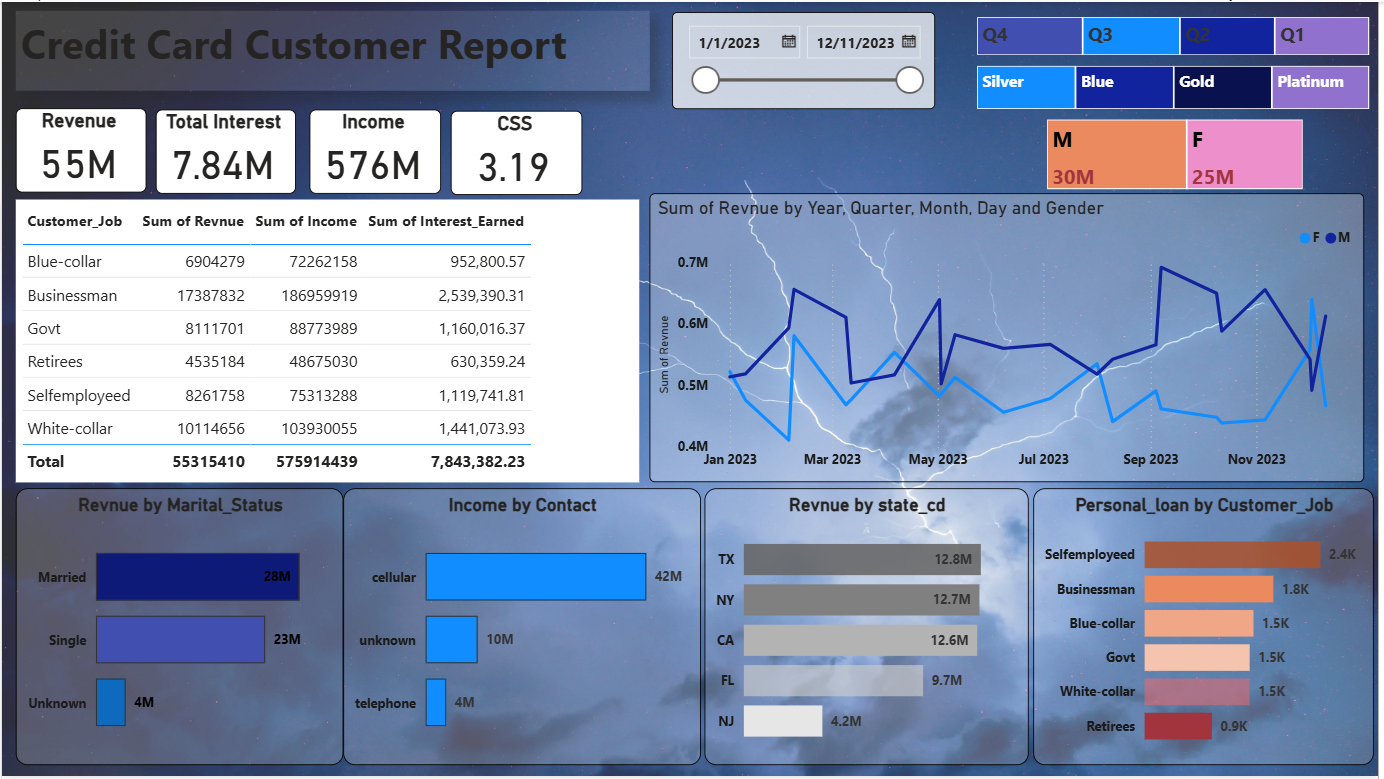

The dashboard page shown, as its layout file describes it:
{"tool":"powerbi","page":{"name":"Customer","canvas":[1280,720],"ordinal":1},"visuals":[{"type":"textbox","box":[12.8,8.1,589.5,74.4],"z":0},{"type":"slicer","fields":{"Values":["credit_card.Week_Start_Date"]},"box":[623.8,8.8,245,90],"z":1000},{"type":"treemap","fields":{"Group":["credit_card.Qtr"],"Values":["Avg(credit_card.Client_Num)"]},"box":[902.3,9.3,374.4,45.3],"z":3000},{"type":"treemap","fields":{"Group":["credit_card.Card_Category"],"Values":["Avg(credit_card.Client_Num)"]},"box":[902.3,54.7,374.4,50],"z":4000},{"type":"card","title":"Revenue","fields":{"Values":["Sum(credit_card.Revnue)"]},"box":[12.5,98.8,121.2,78.8],"z":5000},{"type":"card","title":"Total Interest","fields":{"Values":["Sum(credit_card.Interest_Earned)"]},"box":[142.5,100,130,78.8],"z":6000},{"type":"card","title":"Income","fields":{"Values":["Sum(customer.Income)"]},"box":[286.2,100,122.5,78.8],"z":7000},{"type":"card","title":"CSS","fields":{"Values":["Avg(customer.Cust_Satisfaction_Score)"]},"box":[417.5,101.2,122.5,78.8],"z":8000},{"type":"tableEx","fields":{"Values":["customer.Customer_Job","Sum(credit_card.Revnue)","Sum(customer.Income)","Sum(credit_card.Interest_Earned)"]},"box":[12.5,183.8,580,263],"z":9000},{"type":"clusteredBarChart","title":" Revnue by Marital_Status","fields":{"Y":["Sum(credit_card.Revnue)"],"Category":["customer.Marital_Status"]},"box":[12.5,452,305,257.5],"z":10000},{"type":"lineChart","fields":{"Y":["Sum(credit_card.Revnue)"],"Category":["credit_card.Week_Start_Date.Variation.Date Hierarchy.Year","credit_card.Week_Start_Date.Variation.Date Hierarchy.Quarter","credit_card.Week_Start_Date.Variation.Date Hierarchy.Month","credit_card.Week_Start_Date.Variation.Date Hierarchy.Day"],"Series":["customer.Gender"]},"box":[602.5,177.5,665,268.8],"z":11000},{"type":"clusteredBarChart","title":"Income by Contact","fields":{"Category":["customer.contact"],"Y":["Sum(credit_card.Revnue)"]},"box":[317.5,452.5,332.5,257.5],"z":12000},{"type":"treemap","fields":{"Group":["customer.Gender"],"Values":["Sum(credit_card.Revnue)"]},"box":[967.4,104.7,247.7,74.4],"z":13000},{"type":"clusteredBarChart","title":"Revnue by state_cd","fields":{"Y":["Sum(credit_card.Revnue)"],"Category":["customer.state_cd"]},"box":[653.8,452.5,301.2,257.5],"z":14000},{"type":"clusteredBarChart","title":" Personal_loan by Customer_Job","fields":{"Y":["CountNonNull(customer.Personal_loan)"],"Category":["customer.Customer_Job"]},"box":[959,452.5,317,257.5],"z":15000}]}

Visuals, with their boxes in screenshot pixels (x1, y1, x2, y2), scaled from the page's 1280x720 canvas onto the 1384x779 screenshot:
textbox: (14, 9, 651, 89)
slicer - credit_card.Week_Start_Date: (674, 10, 939, 107)
treemap - credit_card.Qtr x Avg(credit_card.Client_Num): (976, 10, 1380, 59)
treemap - credit_card.Card_Category x Avg(credit_card.Client_Num): (976, 59, 1380, 113)
"Revenue" card: (14, 107, 145, 192)
"Total Interest" card: (154, 108, 295, 193)
"Income" card: (309, 108, 442, 193)
"CSS" card: (451, 109, 584, 195)
tableEx - customer.Customer_Job x Sum(credit_card.Revnue): (14, 199, 641, 483)
" Revnue by Marital_Status" clusteredBarChart: (14, 489, 343, 768)
lineChart - Sum(credit_card.Revnue) x credit_card.Week_Start_Date.Variation.Date Hierarchy.Year: (651, 192, 1370, 483)
"Income by Contact" clusteredBarChart: (343, 490, 703, 768)
treemap - customer.Gender x Sum(credit_card.Revnue): (1046, 113, 1314, 194)
"Revnue by state_cd" clusteredBarChart: (707, 490, 1033, 768)
" Personal_loan by Customer_Job" clusteredBarChart: (1037, 490, 1380, 768)
